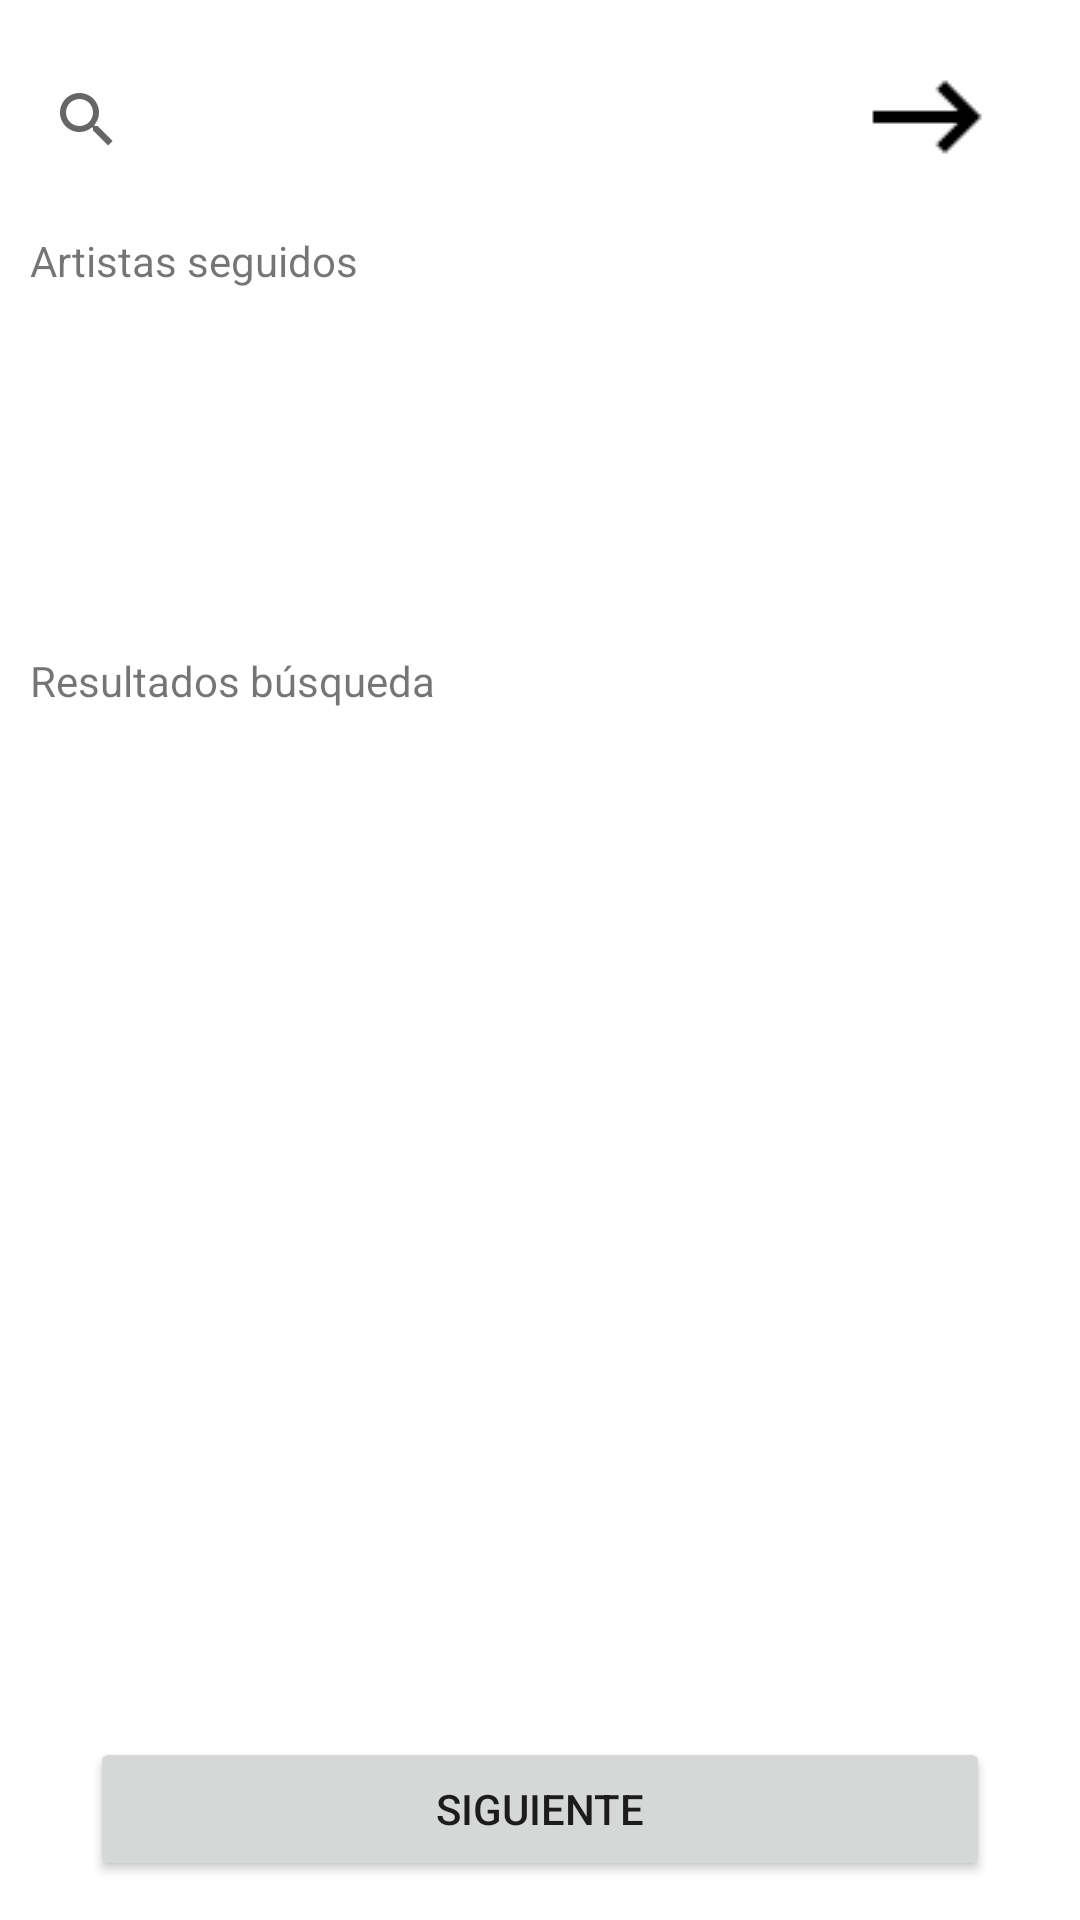

Icons on this 1080px×1920px Android screen, each with the point to tap as (x,y):
Botón desplazamiento derecho: (927,117)
